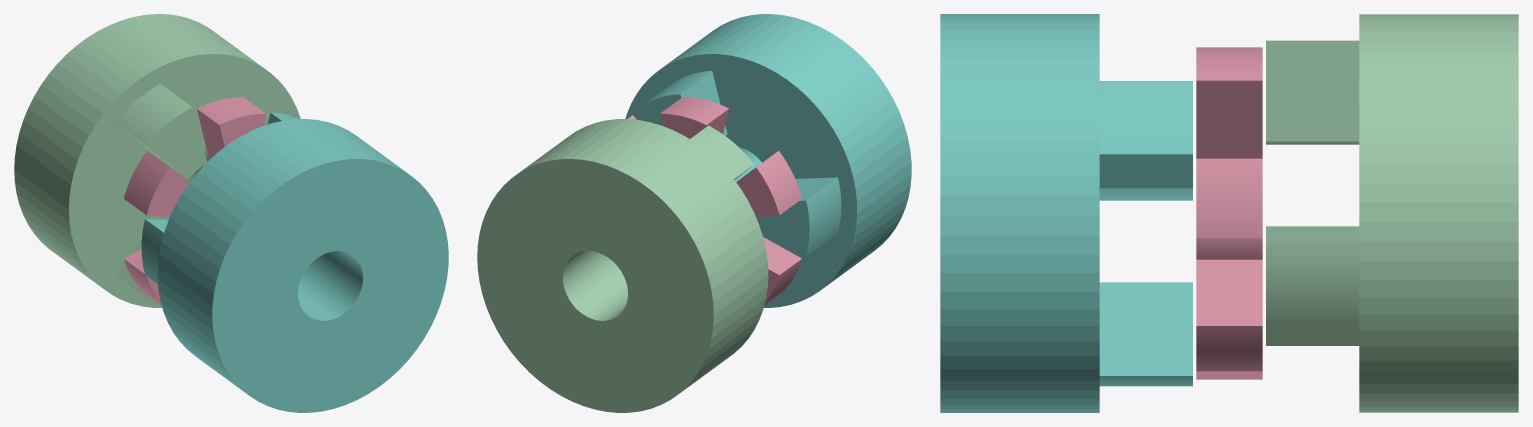
File: jaw_coupling_demo.glb
3 renders of one model, left to right at view 1: azimuth 30°, elevation 25°; view 2: azimuth 150°, elevation 25°; view 3: azimuth 270°, elevation 25°, orthographic. The views are drawn at different scales.
Visible parts, largest first — view 1: jaw_hub_b, jaw_hub_a, elastomer_spider; view 2: jaw_hub_a, jaw_hub_b, elastomer_spider; view 3: jaw_hub_a, jaw_hub_b, elastomer_spider.
Part boxes in pixels (bbox=[...]): jaw_hub_b: bbox=[141, 112, 448, 412]; jaw_hub_a: bbox=[14, 14, 300, 307]; elastomer_spider: bbox=[124, 97, 296, 305]; jaw_hub_a: bbox=[477, 119, 768, 412]; jaw_hub_b: bbox=[625, 14, 911, 307]; elastomer_spider: bbox=[628, 97, 801, 305]; jaw_hub_a: bbox=[1266, 14, 1518, 412]; jaw_hub_b: bbox=[940, 14, 1192, 412]; elastomer_spider: bbox=[1196, 47, 1262, 379].
Bounding box in the file's own units: 30 × 30 × 43.5.
